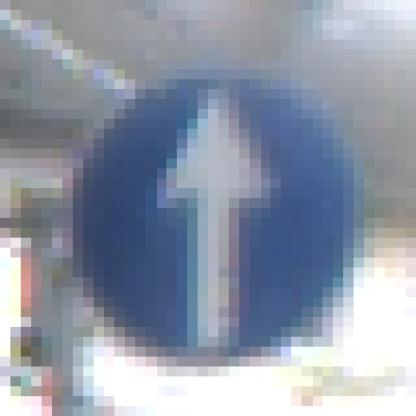AheadOnly: (53, 61, 365, 368)
